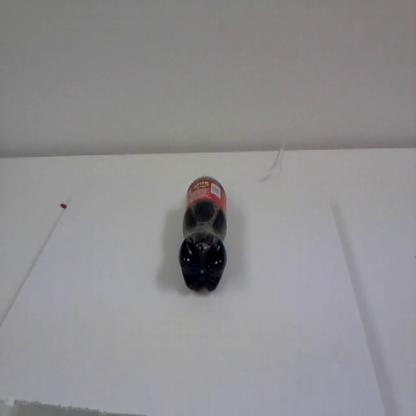bottle: (178, 168, 229, 295)
